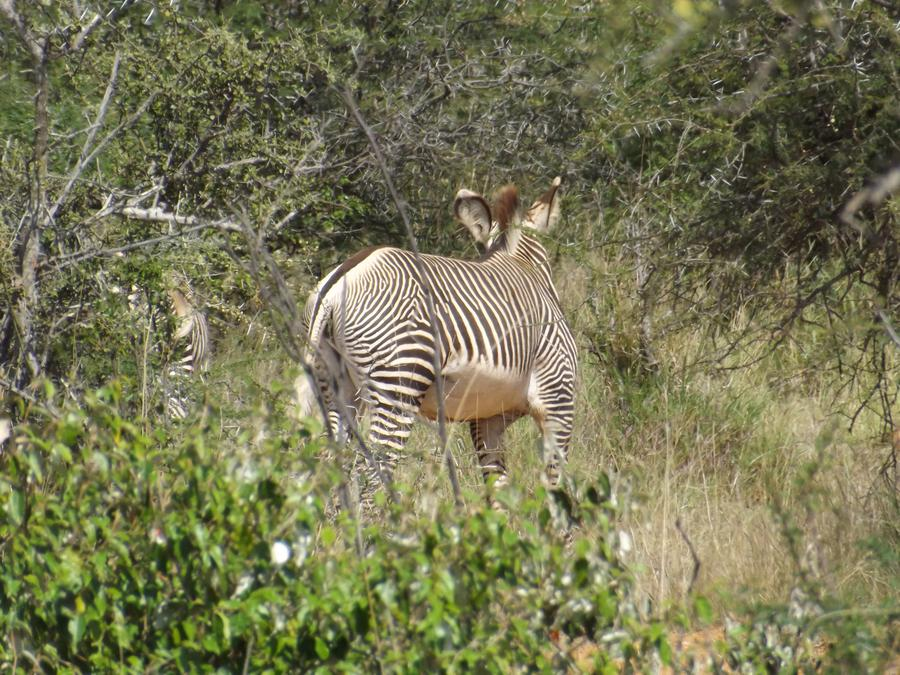zebra_grevys: (301, 218, 582, 415)
